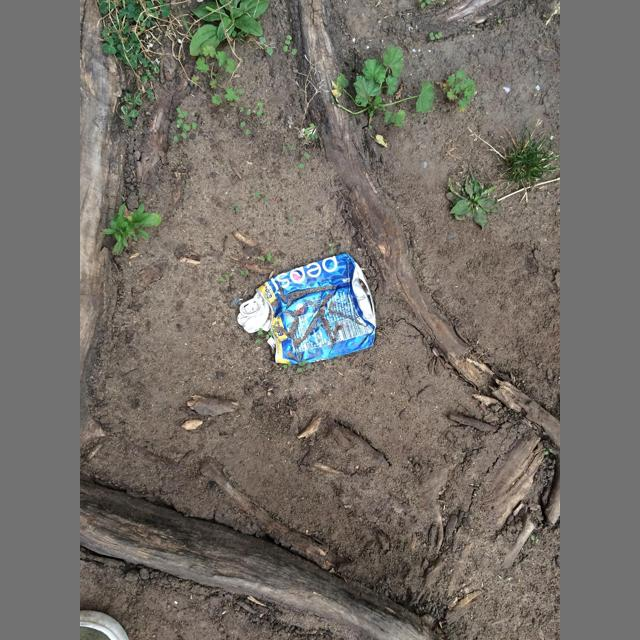litter: (237, 252, 376, 364), (239, 298, 264, 317)
